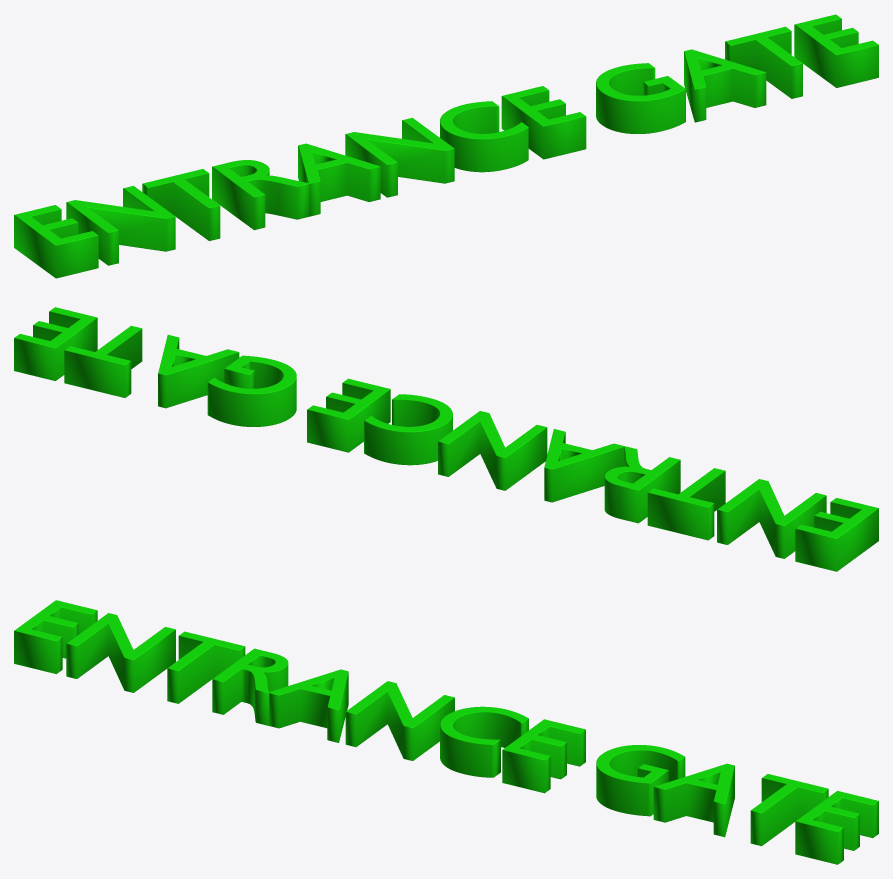
File: entrance_gate2.glb
3 views of the same model, one above another, from view 1: azimuth 30°, elevation 25°; view 2: azimuth 150°, elevation 25°; view 3: azimuth 330°, elevation 25° (orthographic).
Parts seen in each view (by area): view 1: Text.002; view 2: Text.002; view 3: Text.002.
Part boxes in pixels (box(x1,y1,x2,y2)): Text.002: box(14, 14, 878, 278); Text.002: box(14, 307, 878, 571); Text.002: box(14, 600, 878, 864).
Bounding box in the file's own units: 15.99 × 0.62 × 1.45.
